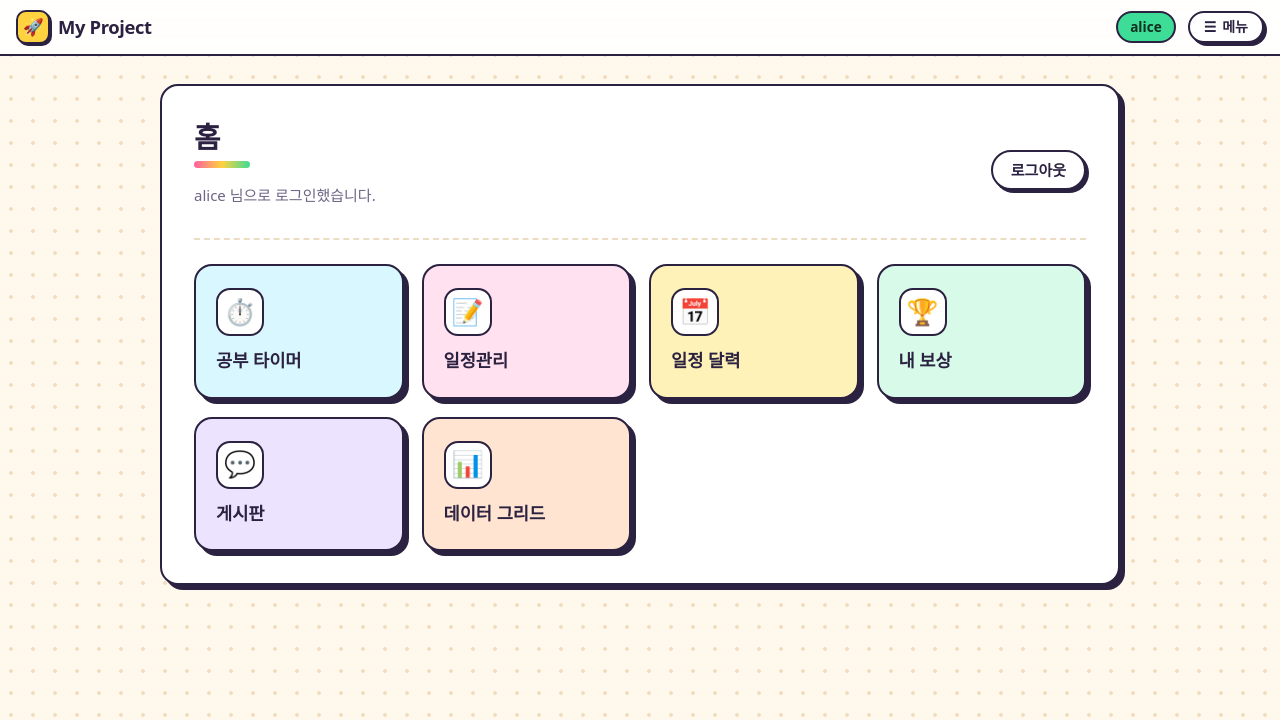
Test case: AppHeader › starts with the menu closed and opens it on demand
This screenshot has width=1280, height=720.
Click the button "☰ 메뉴": [1226, 27] box [1188,11,1264,43]
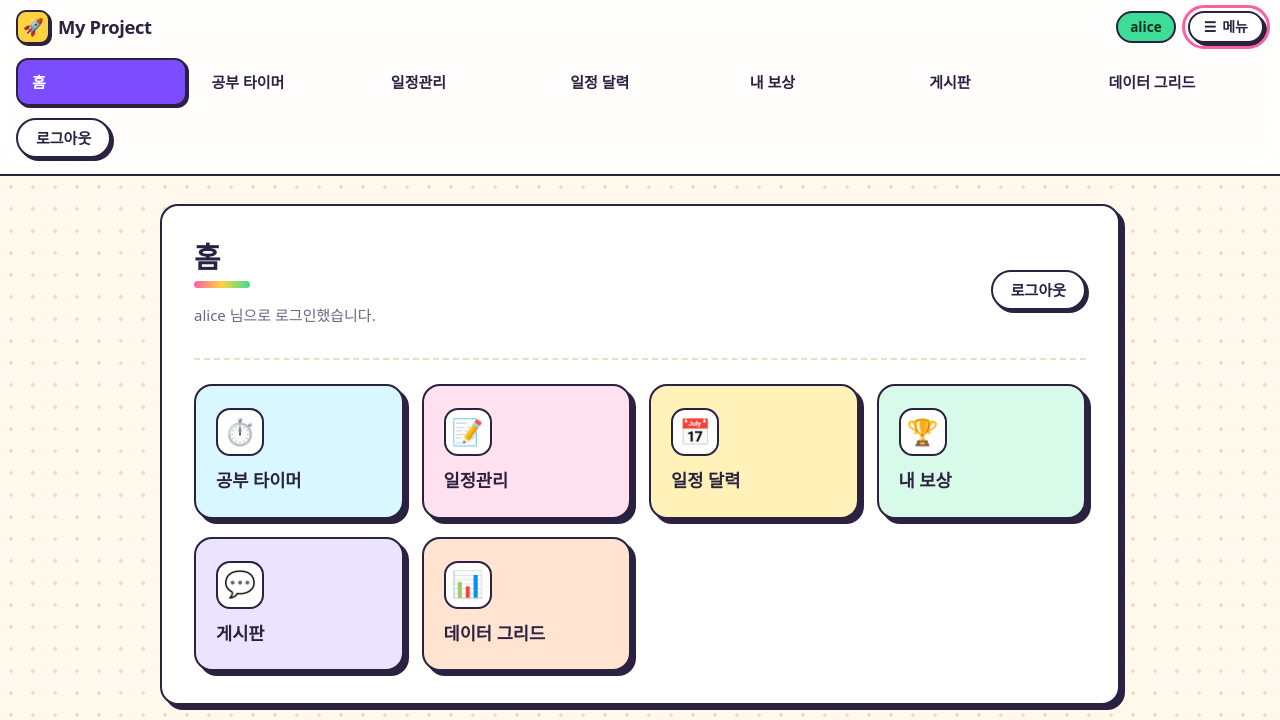
Check: the 1st link "내 보상" is shown, box [750,72,795,92]
Check: the button "로그아웃" below "My Project" is shown, box [16,118,111,158]
